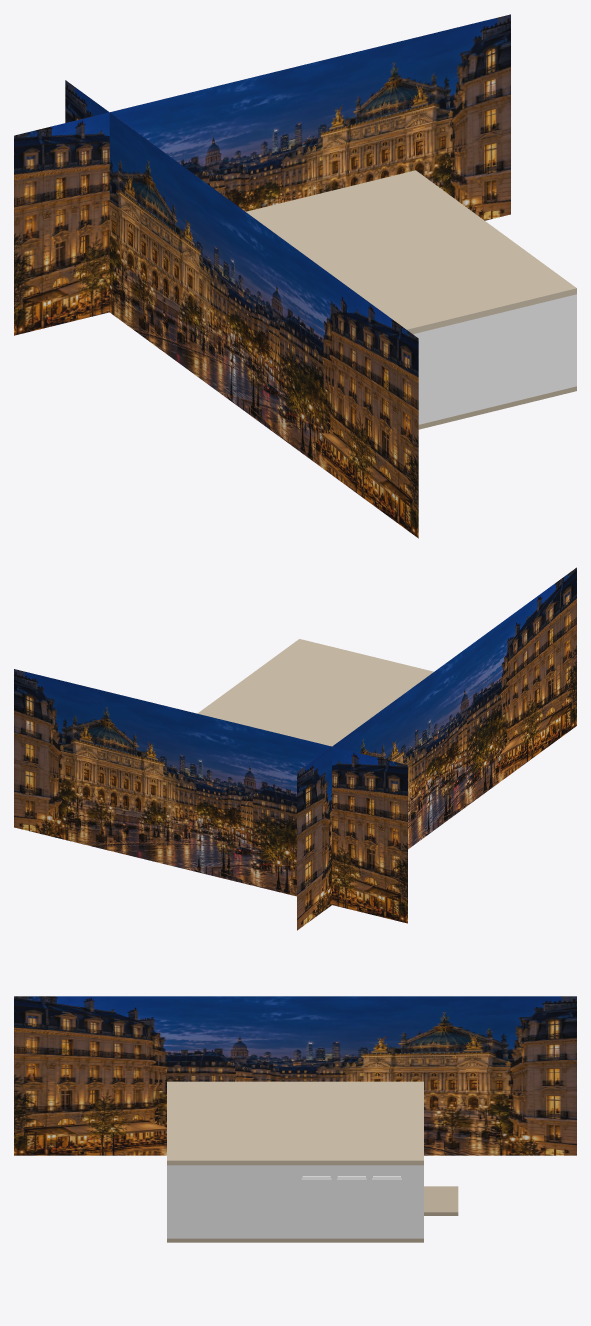
The model's file is olive-arch-bistro-room.glb.
The picture shows the model from 3 angles, top to bottom: view 1: azimuth 30°, elevation 25°; view 2: azimuth 150°, elevation 25°; view 3: azimuth 270°, elevation 25°; orthographic projection. The views are drawn at different scales.
Parts seen in each view (by area): view 1: City beyond north arrival, City beyond west arched windows, Ceiling, South wall, Floor; view 2: City beyond north arrival, City beyond west arched windows, Ceiling; view 3: City beyond west arched windows, Ceiling, East wall, Alcove backing, Alcove backing.001, Alcove backing.002, Floor, Entrance apron.
Part boxes in pixels (<box>): City beyond north arrival: <box>14,14,510,335</box>; City beyond west arched windows: <box>65,80,418,538</box>; Ceiling: <box>246,170,576,333</box>; South wall: <box>413,296,571,424</box>; Floor: <box>418,386,576,429</box>; City beyond north arrival: <box>14,669,407,923</box>; City beyond west arched windows: <box>297,567,576,930</box>; Ceiling: <box>197,639,433,746</box>; City beyond west arched windows: <box>14,996,576,1155</box>; Ceiling: <box>167,1081,423,1165</box>; East wall: <box>167,1165,423,1238</box>; Alcove backing: <box>301,1178,331,1227</box>; Alcove backing.001: <box>337,1178,366,1227</box>; Alcove backing.002: <box>372,1178,401,1227</box>; Floor: <box>167,1238,423,1242</box>; Entrance apron: <box>424,1186,458,1215</box>.
Bounding box in the file's own units: 26 × 10 × 32.
41 materials, 2 textured.
